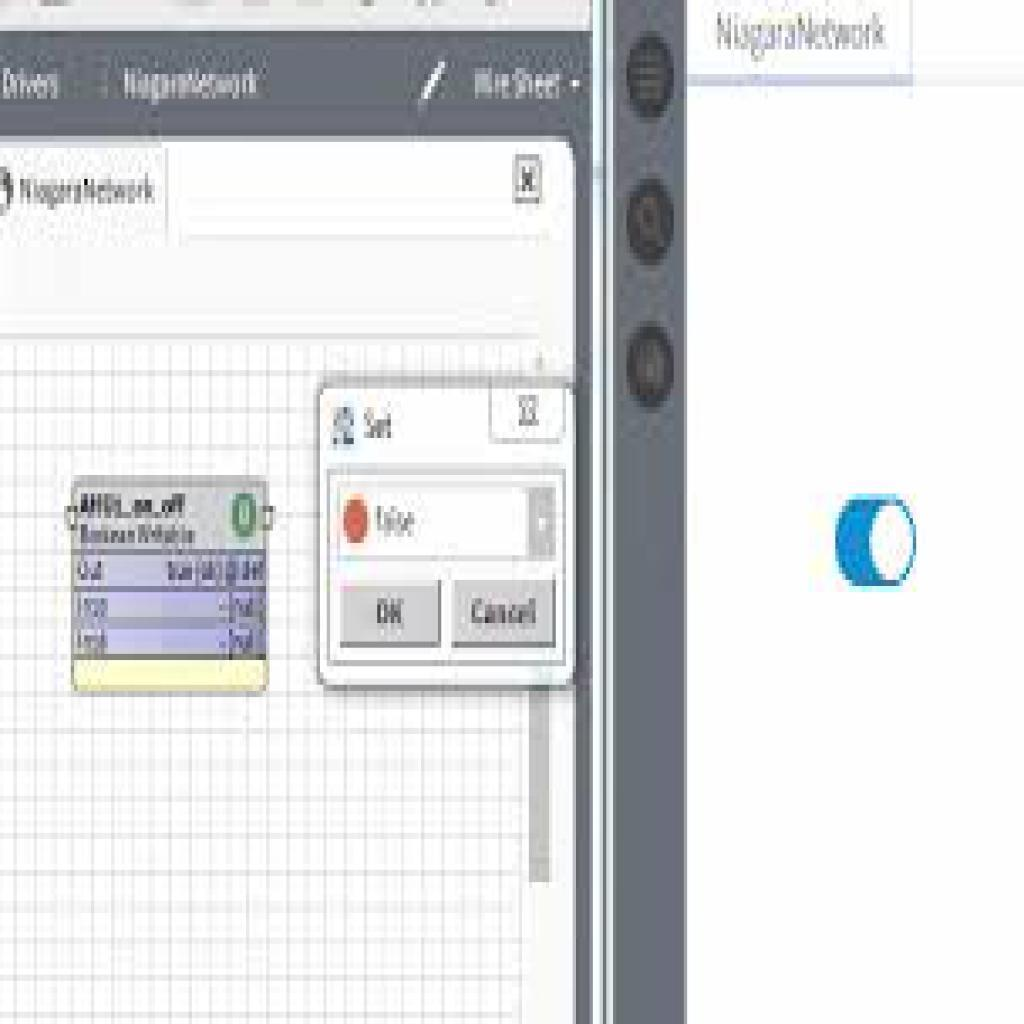button: (335, 580, 444, 650), (450, 578, 558, 645)
dropdown: (341, 485, 557, 561)
switch: (836, 497, 918, 587)
